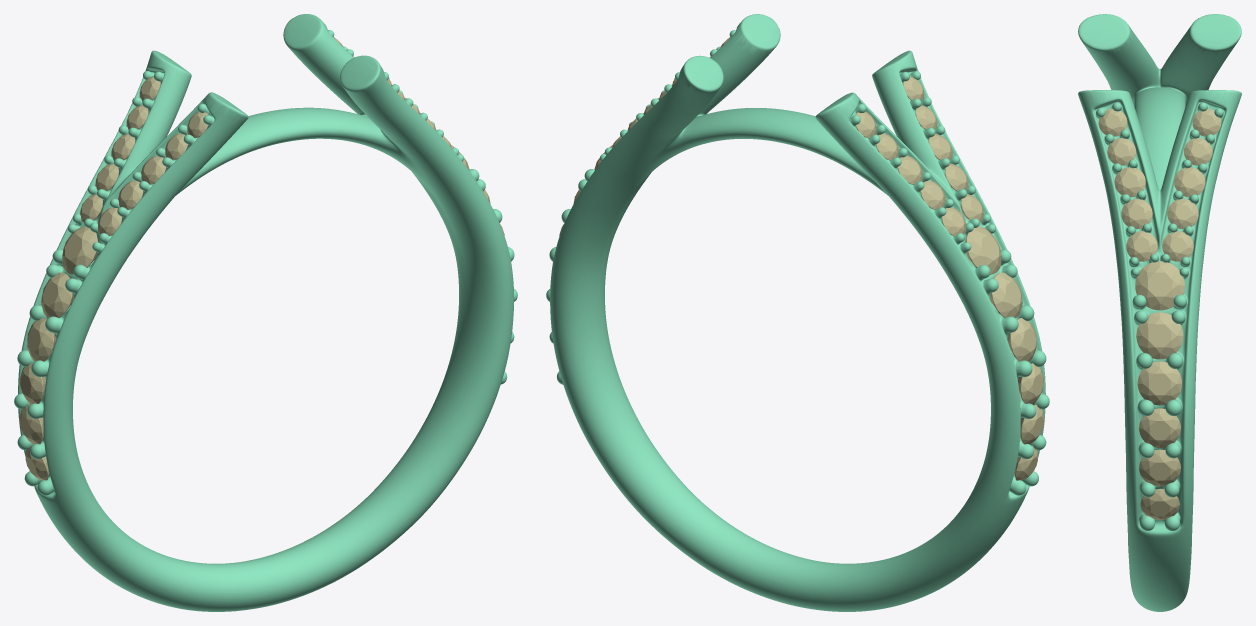
3 views of the same model, side by side, from view 1: azimuth 30°, elevation 25°; view 2: azimuth 150°, elevation 25°; view 3: azimuth 270°, elevation 25° (orthographic). The views are drawn at different scales.
Visible parts, largest first — view 1: Metal02, Diamond_Gem.031, Diamond_Gem.030, Diamond_Gem.029, Diamond_Gem.027; view 2: Metal02, Diamond_Gem.031, Diamond_Gem.030, Diamond_Gem.029, Diamond_Gem.027; view 3: Metal02, Diamond_Gem, Diamond_Gem.001, Diamond_Gem.002, Diamond_Gem.004, Diamond_Gem.003, Diamond_Gem.005, Diamond_Gem.008, Diamond_Gem.013, Diamond_Gem.006, Diamond_Gem.014, Diamond_Gem.015 (+5 smaller).
Part boxes in pixels (x1,y1,x2,y2): Metal02: (14,14,517,611); Diamond_Gem.031: (62,226,97,274); Diamond_Gem.030: (41,272,73,317); Diamond_Gem.029: (27,318,56,361); Diamond_Gem.027: (20,363,45,404); Metal02: (546,14,1049,611); Diamond_Gem.031: (966,226,1001,274); Diamond_Gem.030: (990,272,1022,318); Diamond_Gem.029: (1007,318,1036,361); Diamond_Gem.027: (1018,363,1043,404); Metal02: (1078,14,1241,611); Diamond_Gem: (1135,261,1184,310); Diamond_Gem.001: (1136,312,1183,359); Diamond_Gem.002: (1137,361,1181,405); Diamond_Gem.004: (1139,408,1180,447); Diamond_Gem.003: (1139,449,1180,486); Diamond_Gem.005: (1140,489,1179,520); Diamond_Gem.008: (1121,198,1152,229); Diamond_Gem.013: (1167,198,1198,229); Diamond_Gem.006: (1126,231,1157,261); Diamond_Gem.014: (1174,167,1205,197); Diamond_Gem.015: (1162,231,1193,261).
Size of the model in its own units: 21.12 by 22.55 by 6.27.
